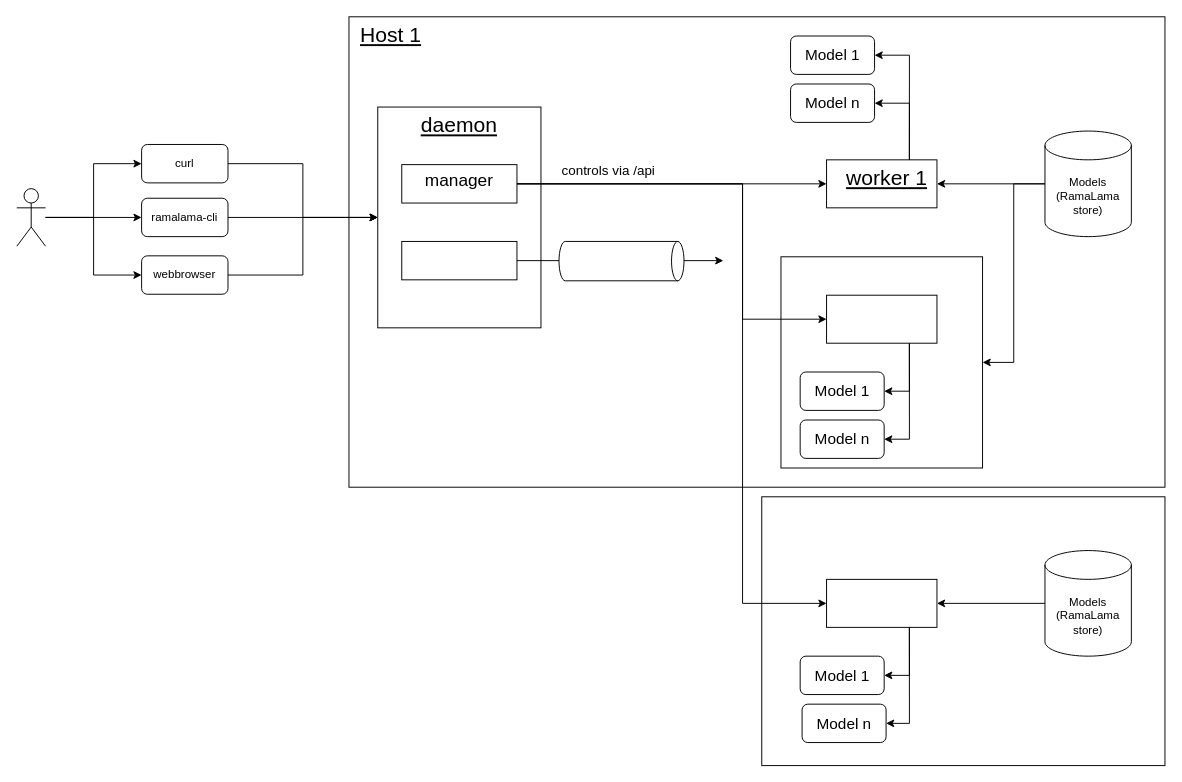
Image size: 1182x782. Some labels were removed from this diagram. Each missing label, with the box of its shape:
<container>: (780, 256, 983, 468)
Host 2: (761, 496, 1165, 766)
proxy: (401, 240, 517, 280)
proxy requests via /proxy to models: (558, 240, 684, 281)
User: (16, 188, 46, 246)
worker 2: (826, 294, 937, 343)
worker 3: (826, 578, 937, 627)
